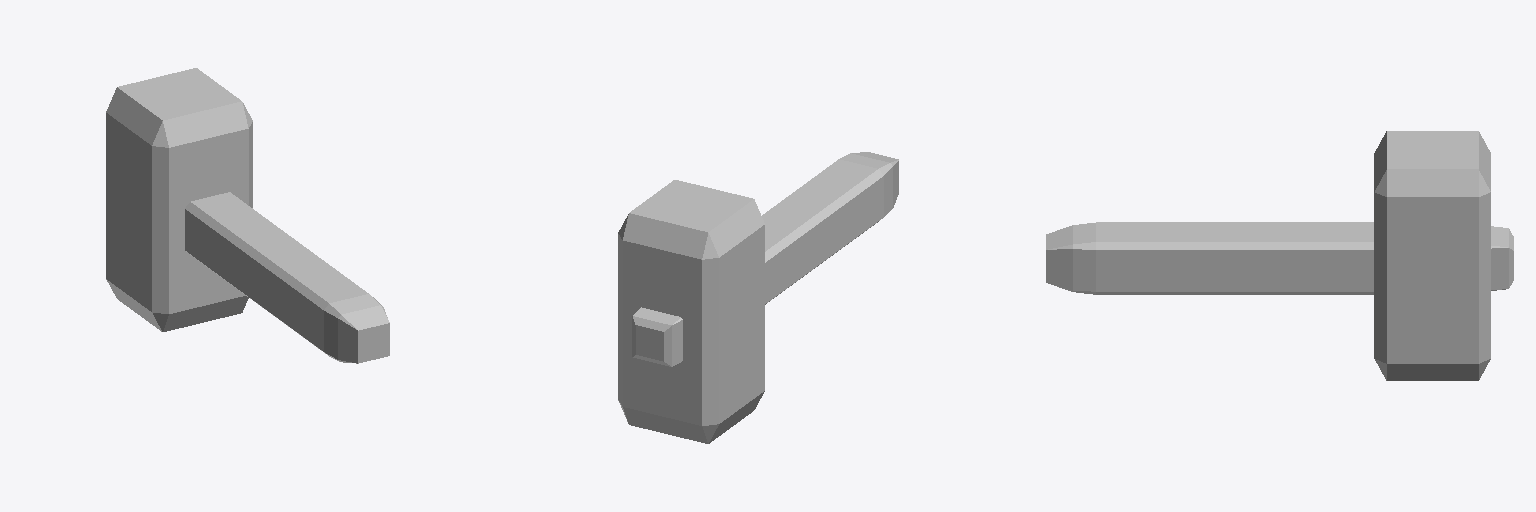
Rendered from hammer.obj.
The picture shows the model from 3 angles: view 1: azimuth 30°, elevation 25°; view 2: azimuth 150°, elevation 25°; view 3: azimuth 270°, elevation 25°; orthographic projection.
Parts seen in each view (by area): view 1: Cube_Cube.001; view 2: Cube_Cube.001; view 3: Cube_Cube.001.
Part boxes in pixels (x1,y1,x2,y2): Cube_Cube.001: (106, 68, 389, 363); Cube_Cube.001: (618, 152, 898, 443); Cube_Cube.001: (1046, 131, 1513, 380).
Bounding box in the file's own units: 0.5 × 1 × 2.